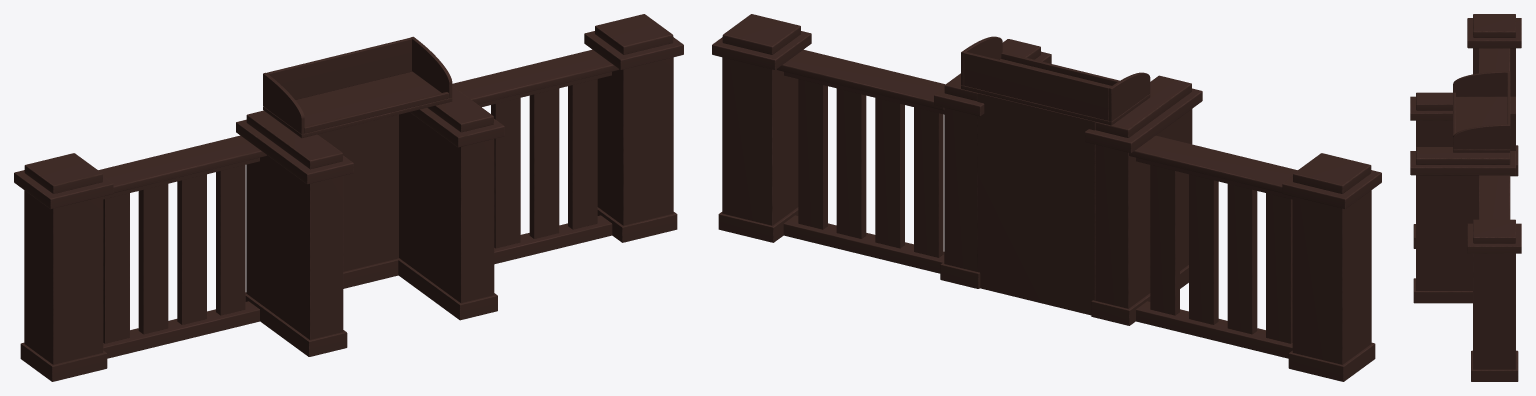
File: CourtBarrier.fbx
The picture shows the model from 3 angles, left to right: view 1: azimuth 30°, elevation 25°; view 2: azimuth 150°, elevation 25°; view 3: azimuth 270°, elevation 25°; orthographic projection. The views are drawn at different scales.
Visible parts, largest first — view 1: CourtBarrier; view 2: CourtBarrier; view 3: CourtBarrier.
Boxes of the visible parts, box(x1,y1,x2,y2) form: CourtBarrier: box(14, 14, 683, 381); CourtBarrier: box(712, 14, 1381, 381); CourtBarrier: box(1410, 14, 1521, 381).
Bounding box in the file's own units: 3.78 × 1.32 × 0.78.
1 material, 1 textured.
